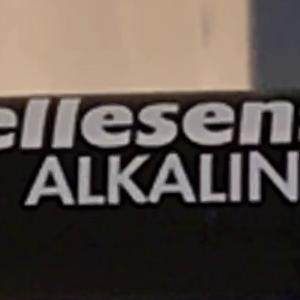ALK: (16, 147, 114, 215)
